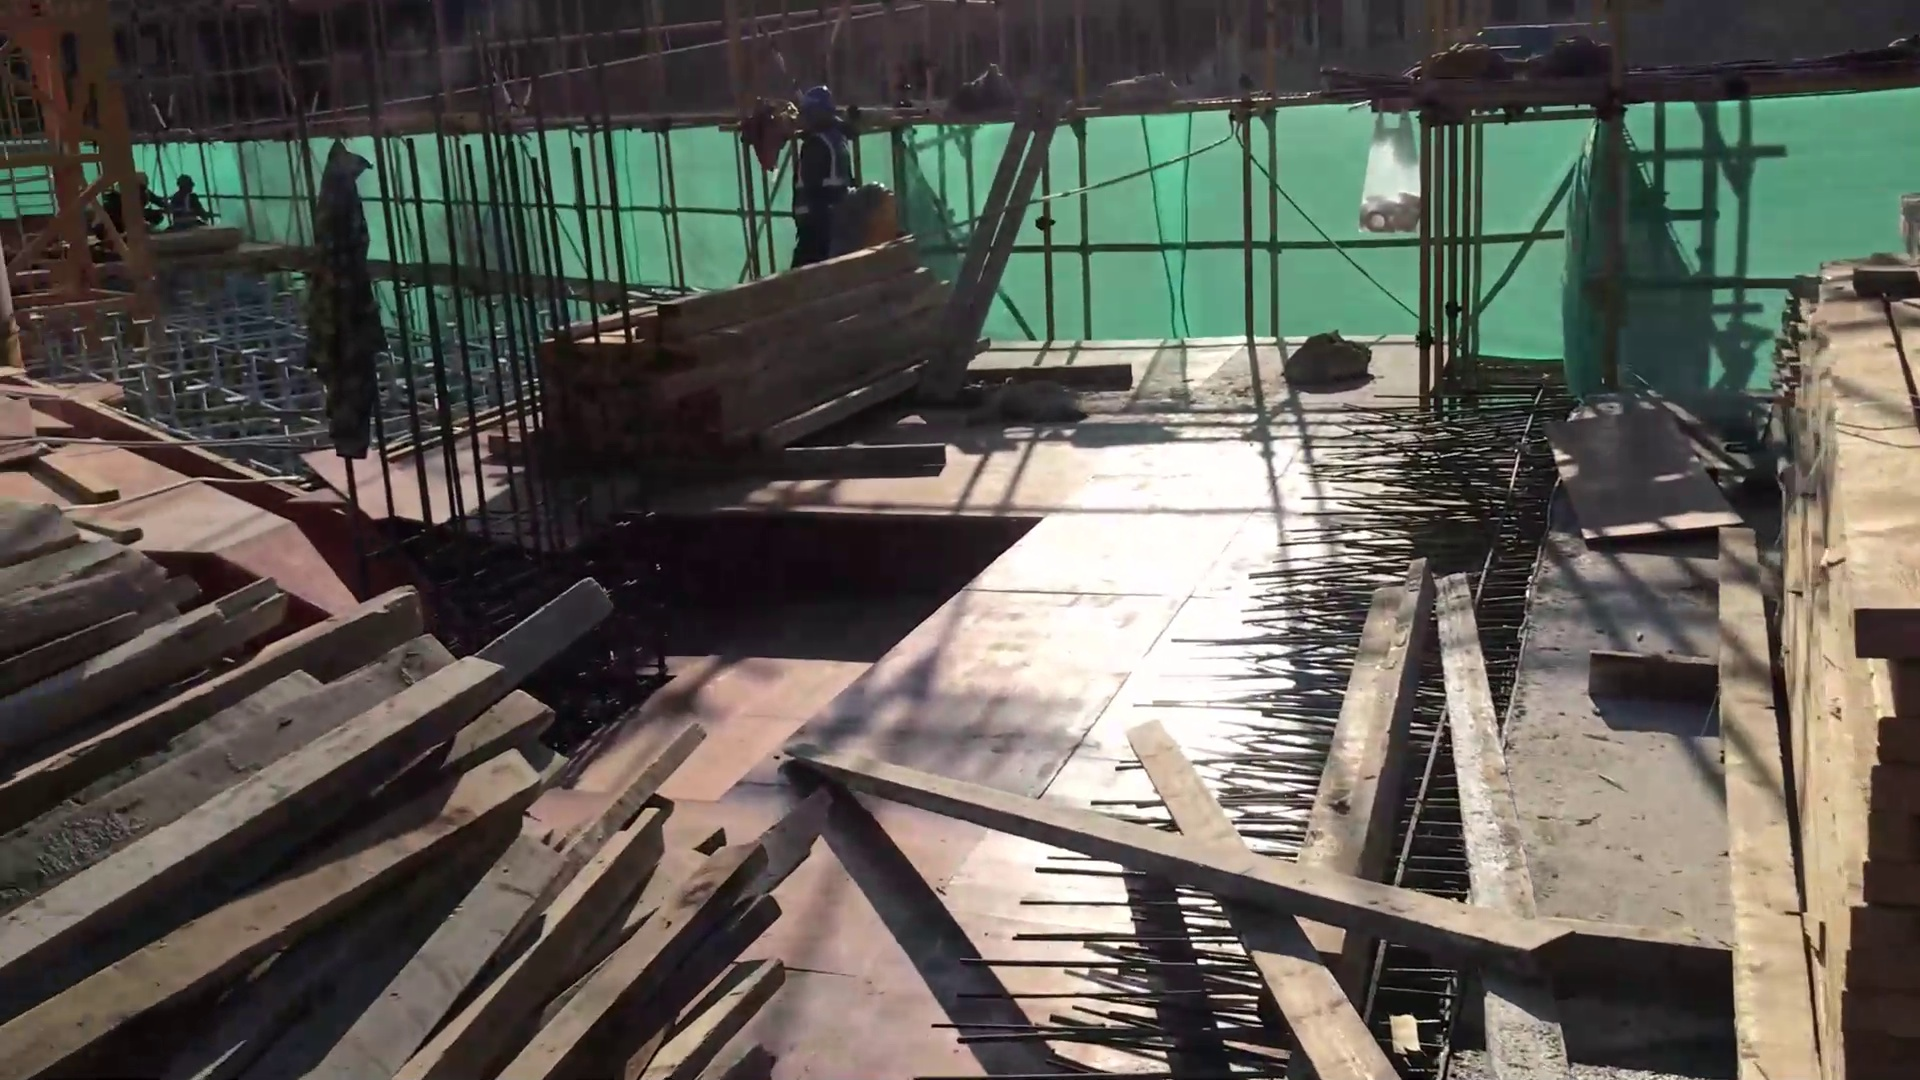wood: (534, 228, 975, 487)
